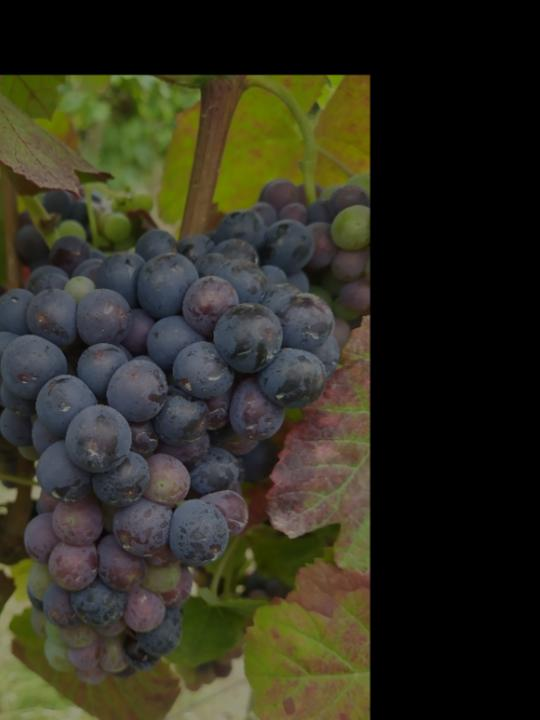grape: (0, 231, 343, 686)
